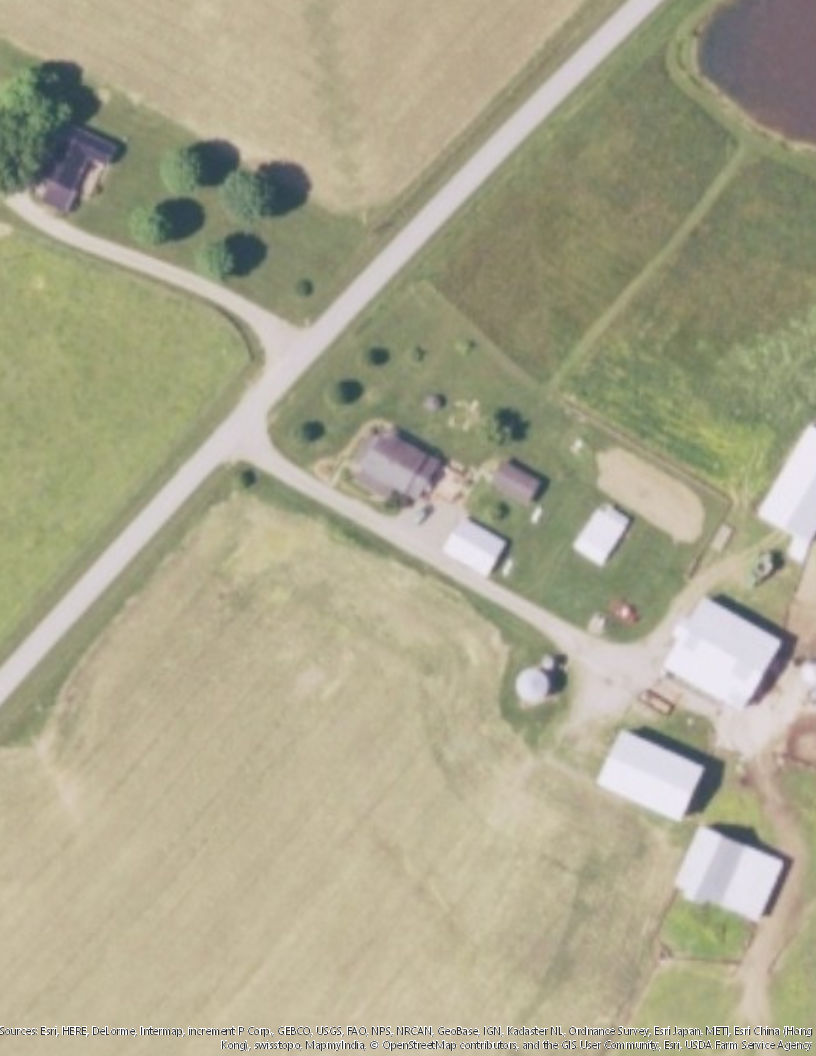cafo: (655, 591, 783, 710), (662, 821, 801, 925), (591, 728, 714, 828), (748, 413, 816, 553)
